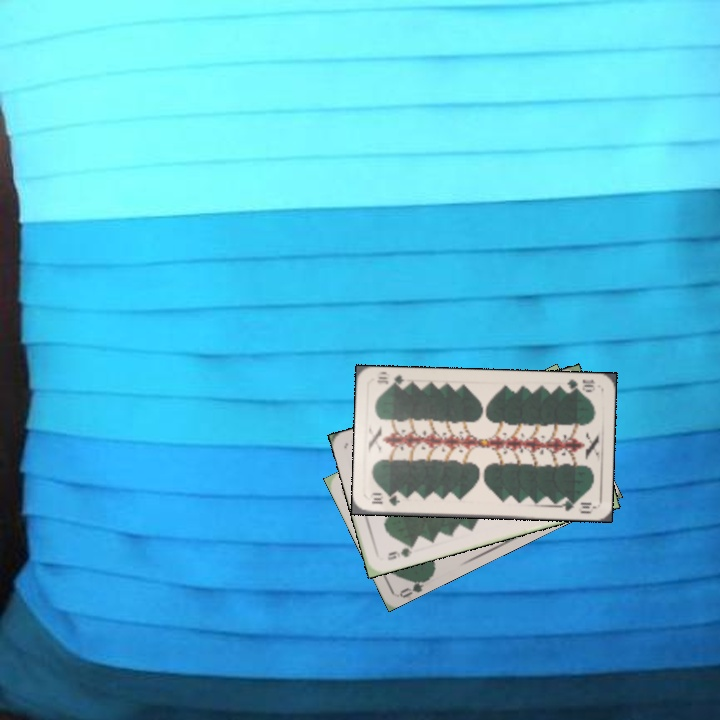G10: (559, 375, 598, 395), (367, 490, 402, 508)
G9: (383, 540, 417, 563)
GO: (396, 573, 433, 600)
